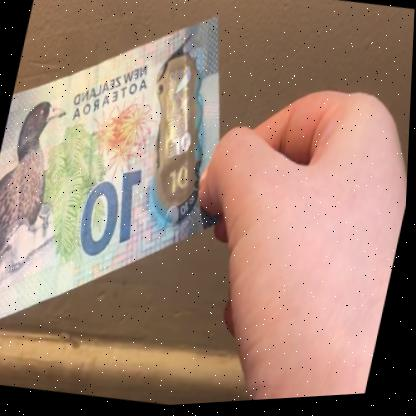10F: (139, 58, 219, 208)
